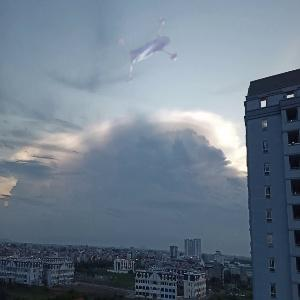drone: (101, 6, 199, 104)
